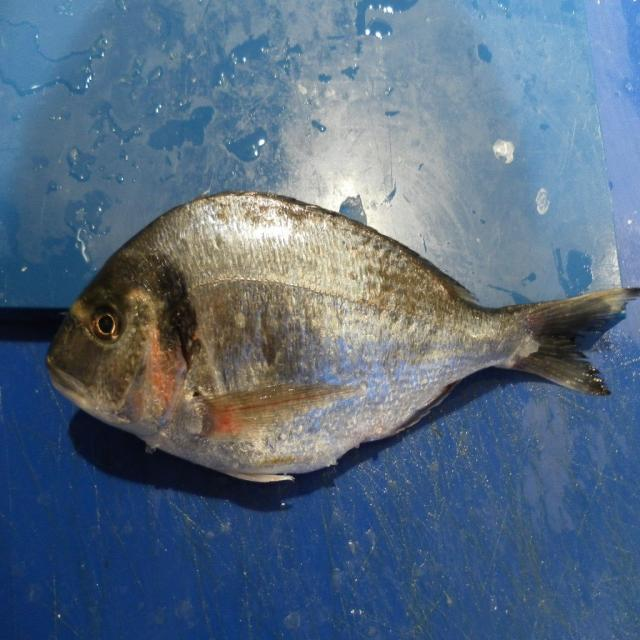Gilt-Head-Bream-c-ipura-: (44, 192, 640, 486)
